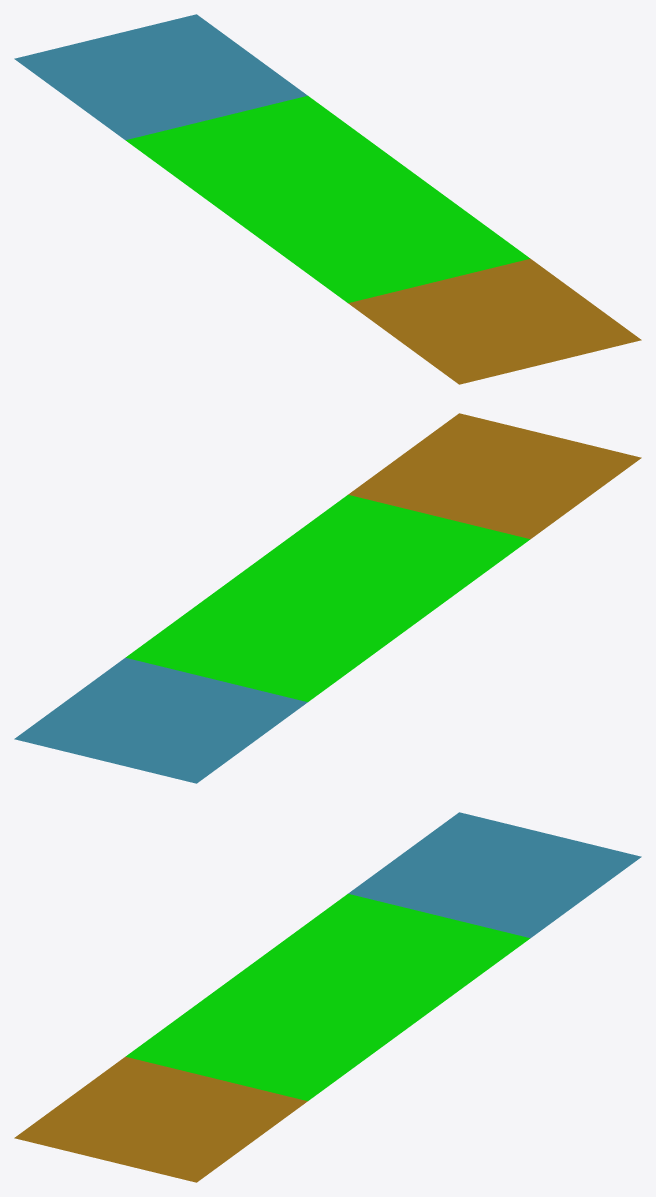
File: Chunk.fbx
3 views of the same model, one above another, from view 1: azimuth 30°, elevation 25°; view 2: azimuth 150°, elevation 25°; view 3: azimuth 330°, elevation 25° (orthographic).
Visible parts, largest first — view 1: Chunk; view 2: Chunk; view 3: Chunk.
Part boxes in pixels (x1=…): Chunk: x1=14, y1=14, x2=641, y2=384; Chunk: x1=14, y1=413, x2=641, y2=783; Chunk: x1=14, y1=812, x2=641, y2=1182.
Size of the model in its own units: 948 by 0 by 4000.
